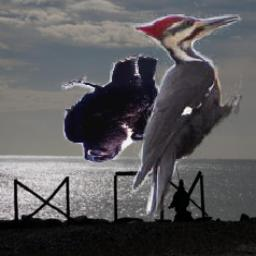Crow: (61, 53, 162, 162)
Woodpecker: (130, 14, 242, 215)
